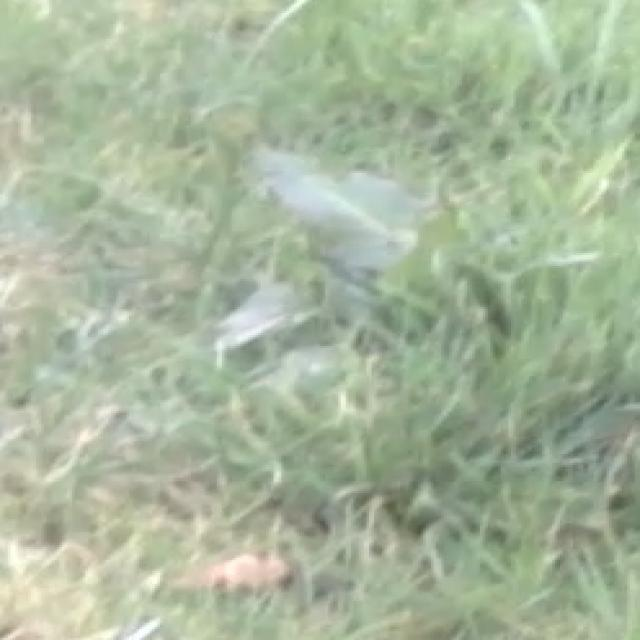organic waste: (131, 117, 576, 374)
